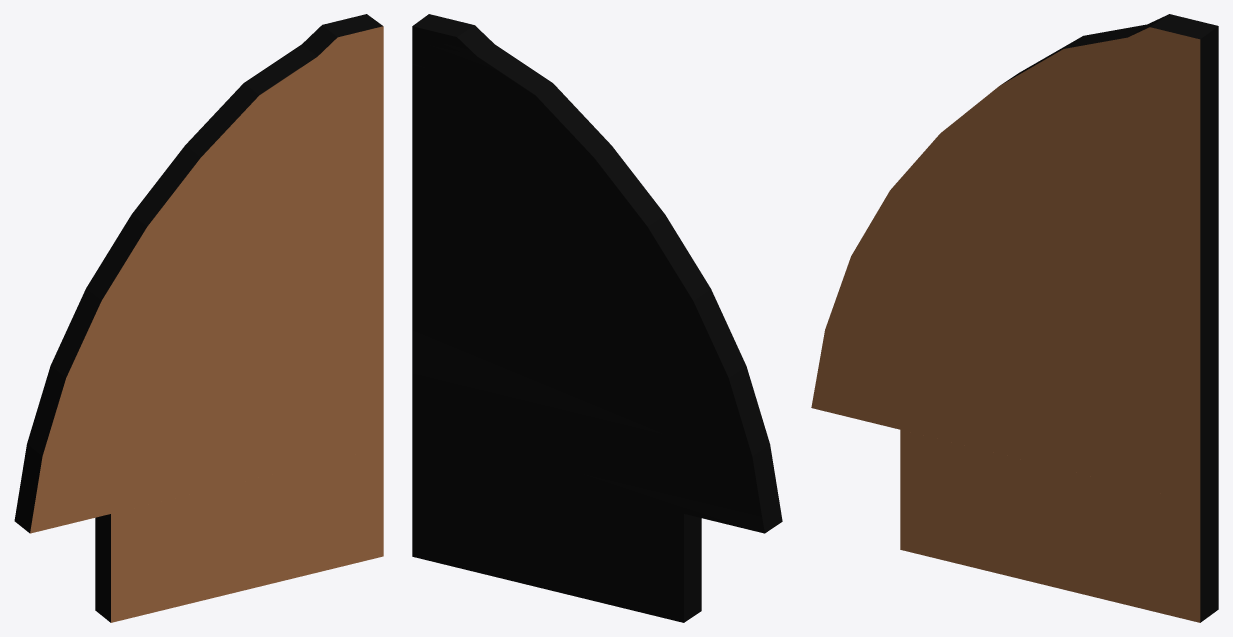
File: Wall_MégaCool.fbx
The picture shows the model from 3 angles, left to right: view 1: azimuth 30°, elevation 25°; view 2: azimuth 150°, elevation 25°; view 3: azimuth 330°, elevation 25°; orthographic projection. The views are drawn at different scales.
Visible parts, largest first — view 1: Window_Save_005.003; view 2: Window_Save_005.003; view 3: Window_Save_005.003.
Part boxes in pixels (x1,y1,x2,y2): Window_Save_005.003: [14, 14, 383, 622]; Window_Save_005.003: [412, 14, 782, 622]; Window_Save_005.003: [811, 14, 1218, 622].
Bounding box in the file's own units: 351 × 503 × 28.71.
